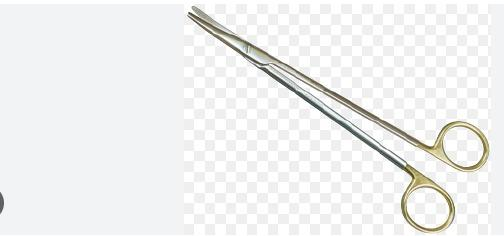Metzenbaum Sciccors: (185, 4, 491, 236)
